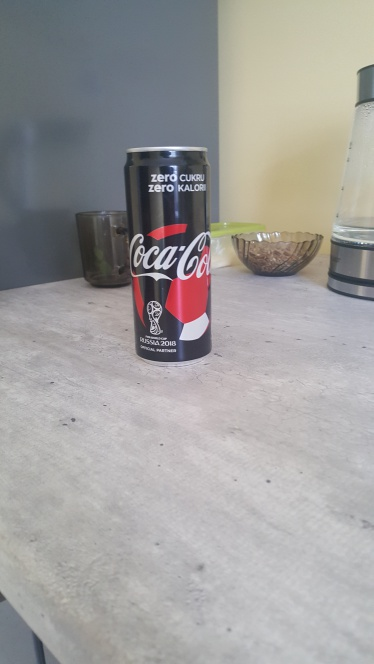colazero: (128, 146, 211, 359)
